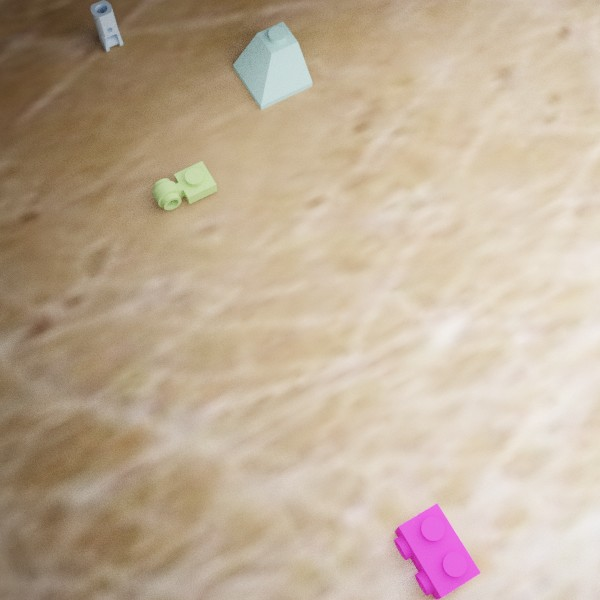lego: (393, 502, 481, 599), (233, 21, 312, 109), (152, 161, 217, 210), (90, 0, 123, 52)
